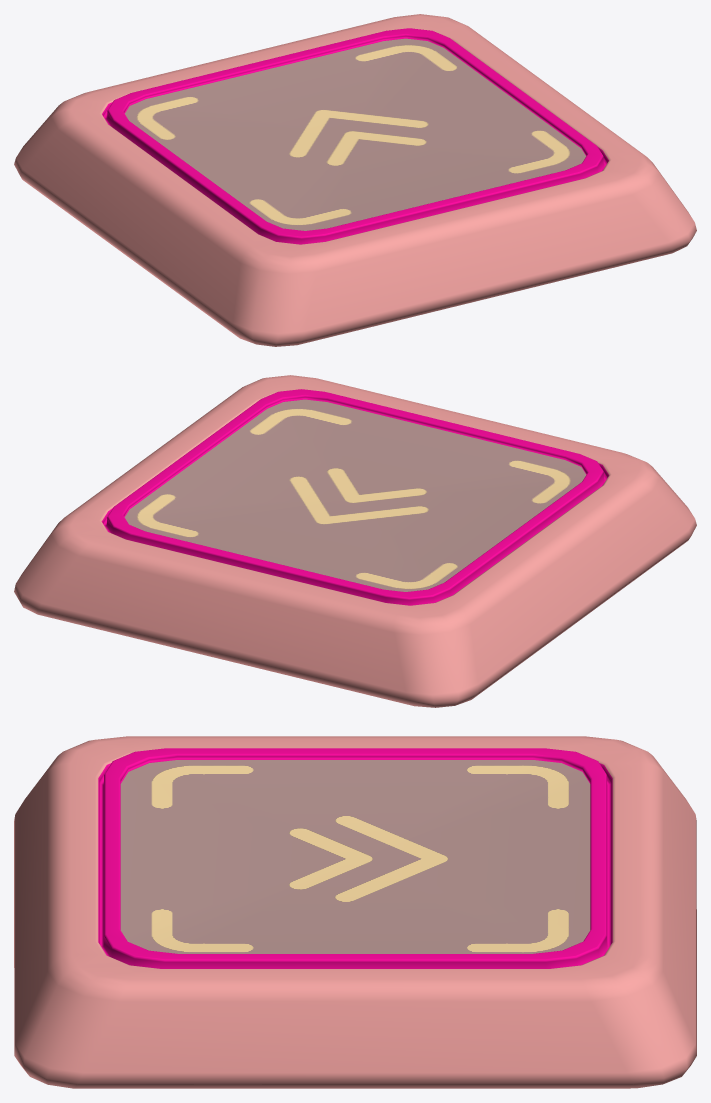
File: MEC0110013.fbx
3 views of the same model, one above another, from view 1: azimuth 30°, elevation 25°; view 2: azimuth 150°, elevation 25°; view 3: azimuth 270°, elevation 25° (orthographic). The views are drawn at different scales.
Visible parts, largest first — view 1: smMEC0110013; view 2: smMEC0110013; view 3: smMEC0110013.
Part boxes in pixels (x1=…): smMEC0110013: x1=14, y1=14, x2=696, y2=346; smMEC0110013: x1=14, y1=375, x2=696, y2=707; smMEC0110013: x1=14, y1=736, x2=696, y2=1088.
Bounding box in the file's own units: 318 × 49.59 × 318.
1 material, 1 textured.
